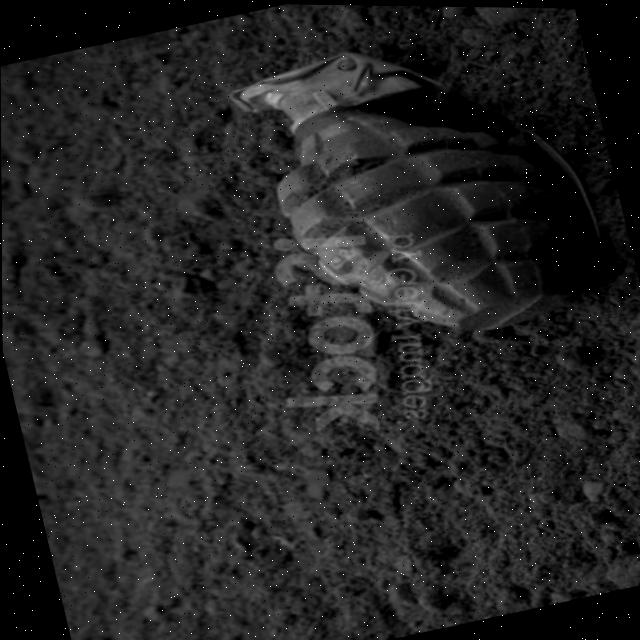grenade: (181, 2, 640, 408)
